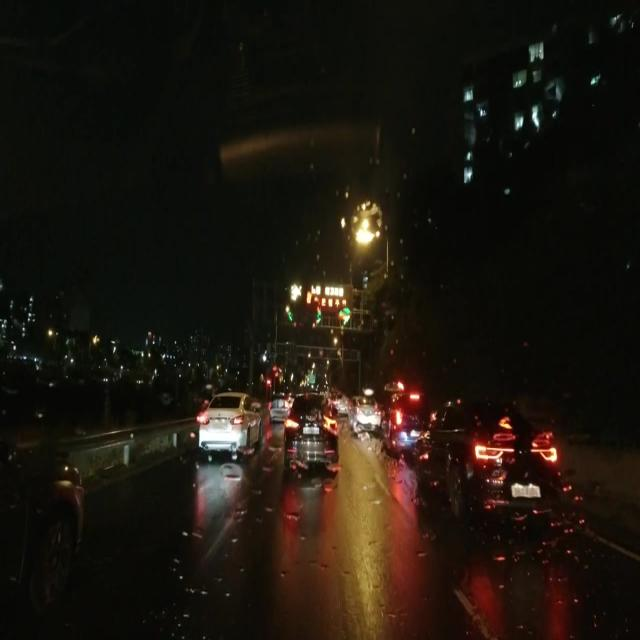Car: (0, 398, 82, 639), (415, 400, 556, 539), (282, 388, 336, 484), (198, 392, 258, 455), (377, 384, 423, 453), (347, 393, 377, 435)
